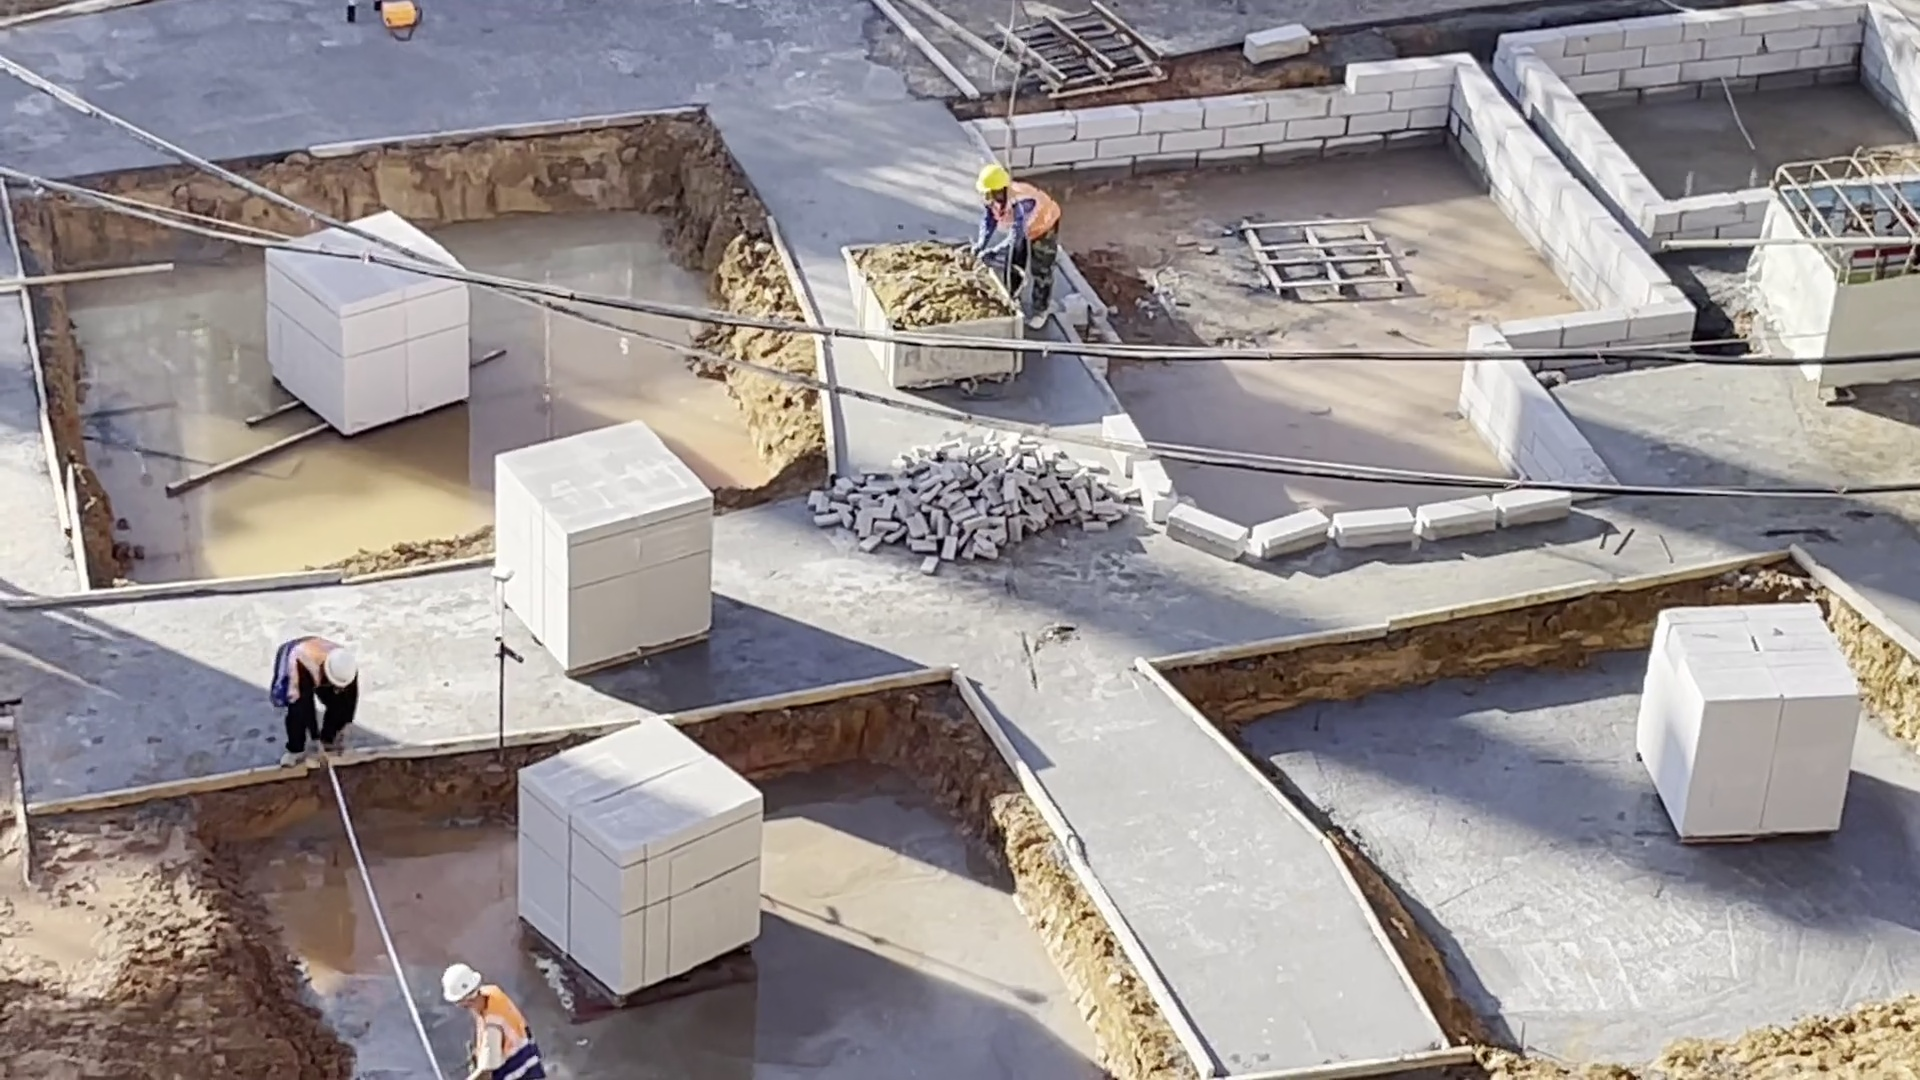brick: (509, 716, 765, 998), (487, 411, 720, 685), (1612, 600, 1857, 846), (260, 282, 482, 442)
helmet: (438, 961, 489, 1006), (325, 642, 362, 691), (973, 158, 1015, 189)
hopper: (840, 237, 985, 335)
person: (970, 160, 1066, 334), (259, 632, 367, 769), (432, 961, 545, 1080)
vest: (466, 987, 544, 1076), (273, 635, 328, 709), (995, 182, 1063, 242)
